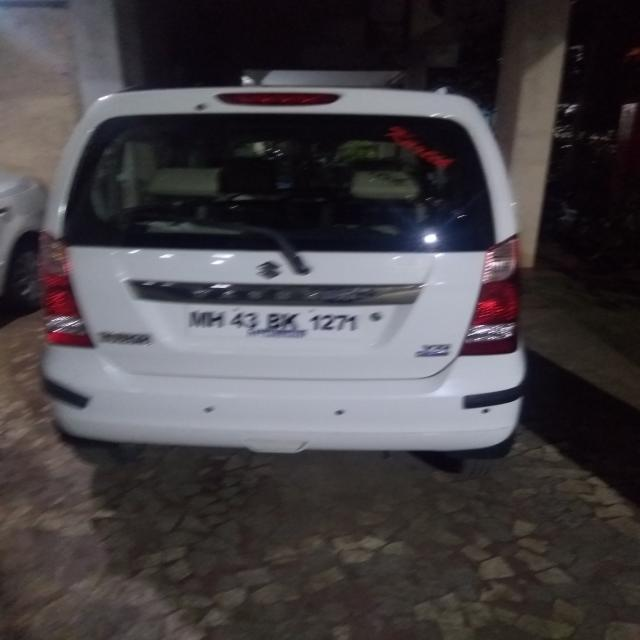Number-Plate: (174, 306, 400, 337)
